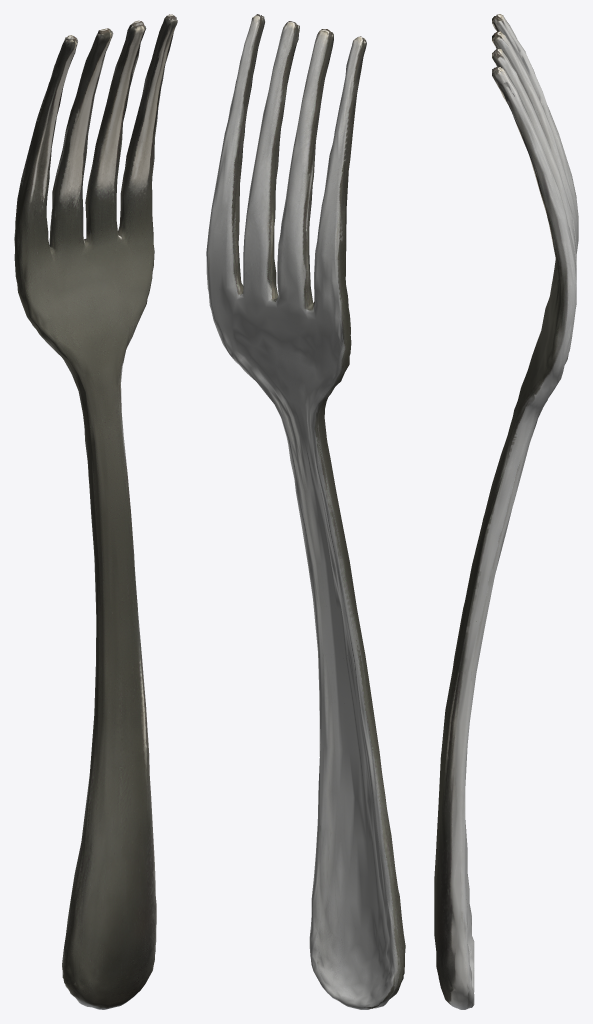
The model's file is Stainless_Steel_Dinner_fork0225002820_texture.glb.
3 renders of one model, left to right at view 1: azimuth 30°, elevation 25°; view 2: azimuth 150°, elevation 25°; view 3: azimuth 270°, elevation 25°, orthographic. The views are drawn at different scales.
Visible parts, largest first — view 1: Mesh_0; view 2: Mesh_0; view 3: Mesh_0.
Part boxes in pixels (bbox=[...]): Mesh_0: bbox=[14, 14, 177, 1009]; Mesh_0: bbox=[206, 14, 405, 1009]; Mesh_0: bbox=[434, 14, 578, 1009].
Bounding box in the file's own units: 0.0305 × 0.2032 × 0.0271.
1 material, 1 textured.
